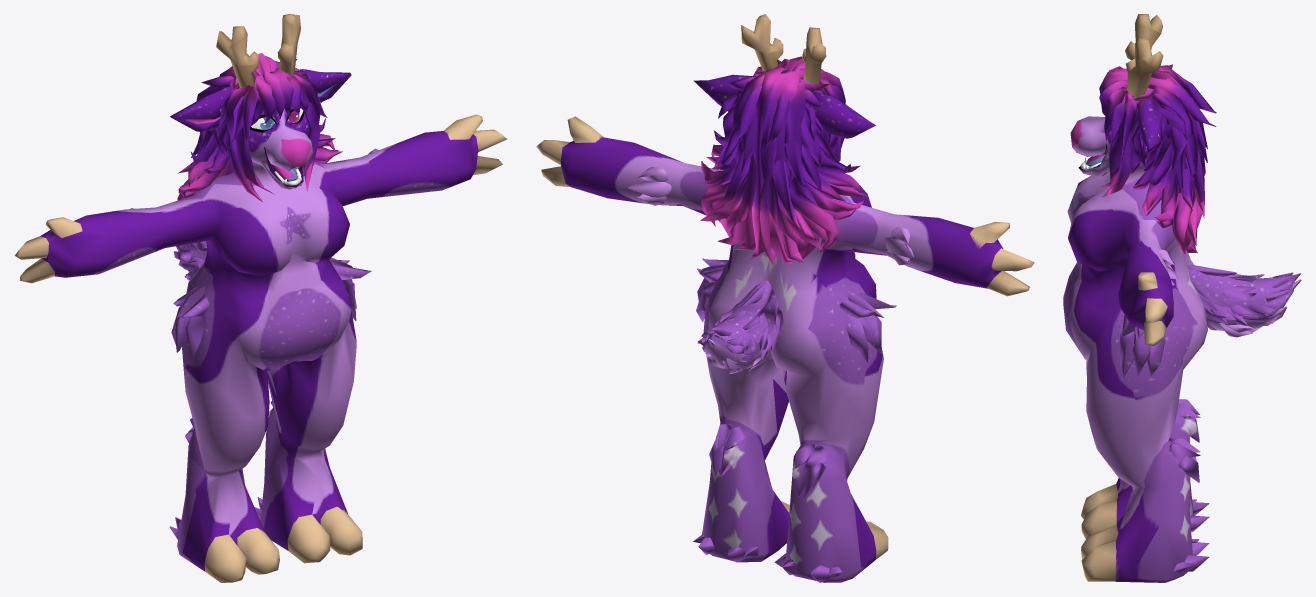
Rendered from nova.glb.
3 renders of one model, left to right at view 1: azimuth 30°, elevation 25°; view 2: azimuth 150°, elevation 25°; view 3: azimuth 270°, elevation 25°, orthographic. The views are drawn at different scales.
Visible parts, largest first — view 1: Body.002; view 2: Body.002; view 3: Body.002.
Boxes of the visible parts, bbox=[...] form: Body.002: bbox=[14, 14, 507, 582]; Body.002: bbox=[536, 14, 1034, 582]; Body.002: bbox=[1063, 14, 1301, 582].
Size of the model in its own units: 4.78 by 4.93 by 2.03.
Materials: 3 (3 with a texture image).
